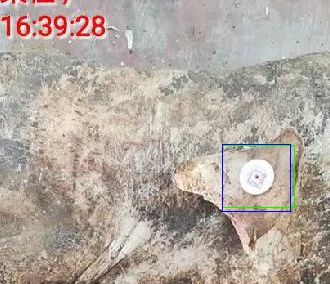text: (222, 145, 294, 207)
